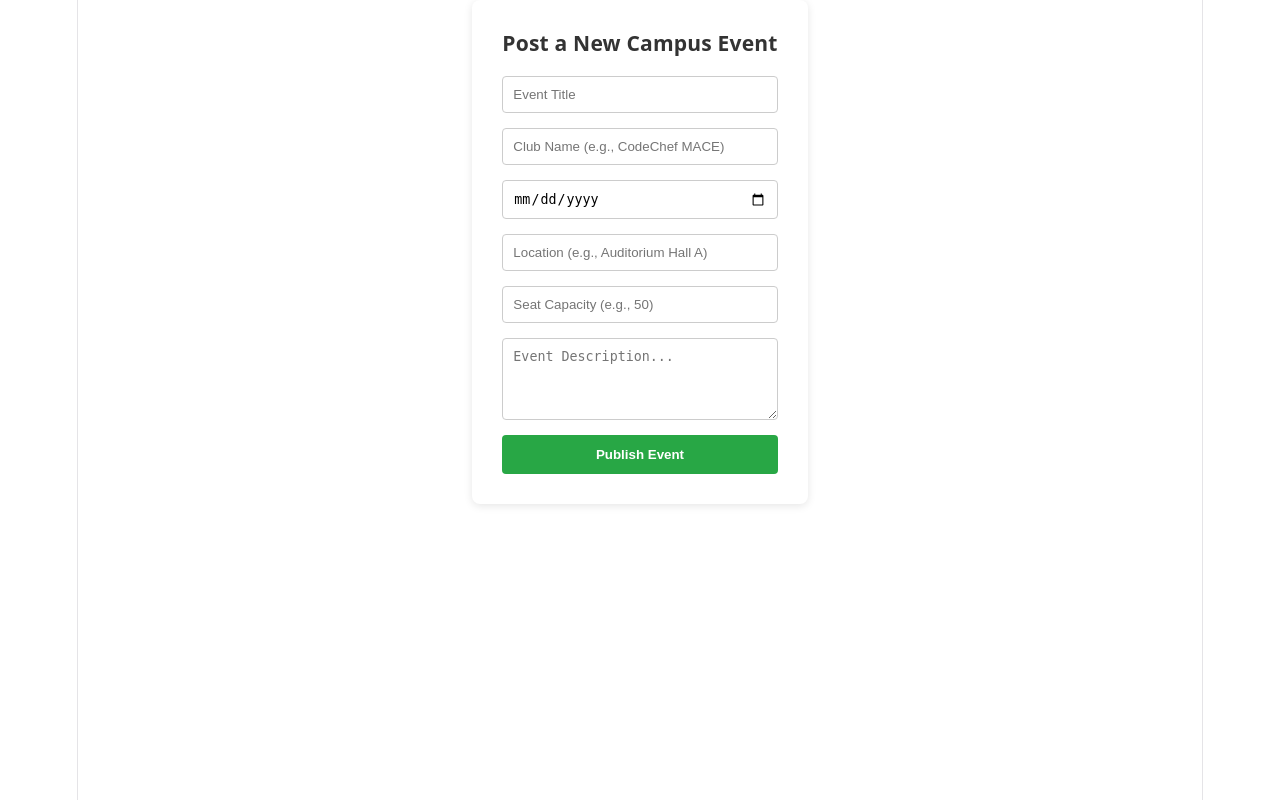
Test: CreateEvent component › displays API error message when the server returns an error response
Type "AI Workshop" into the field with placeholder "Event Title".
click(640, 95); type("AI Workshop")  # box [502,76,778,113]
Type "Tech Club" into the field with placeholder "Club Name (e.g., CodeChef MACE)".
click(640, 147); type("Tech Club")  # box [502,128,778,165]
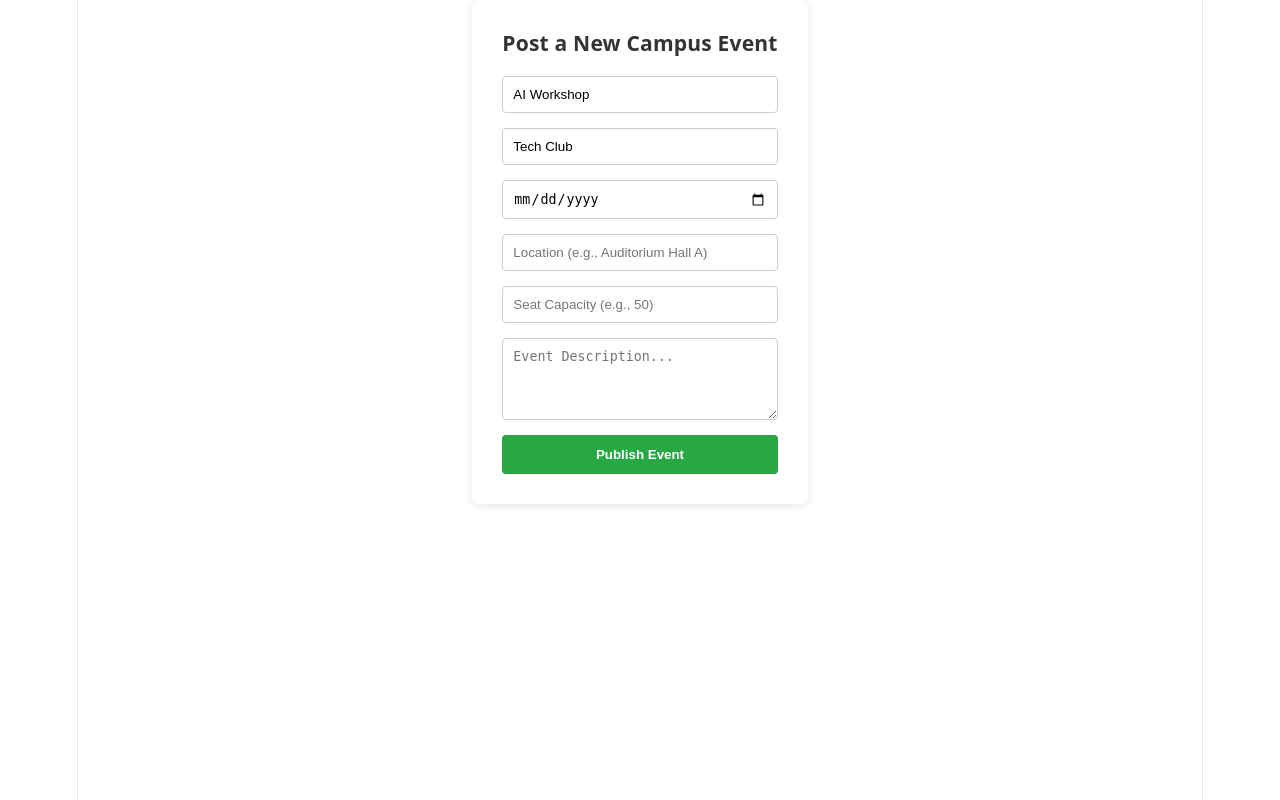
Type "2026-12-15" into the date field named "date".
click(640, 200); type("2026-12-15")  # box [502,180,778,219]
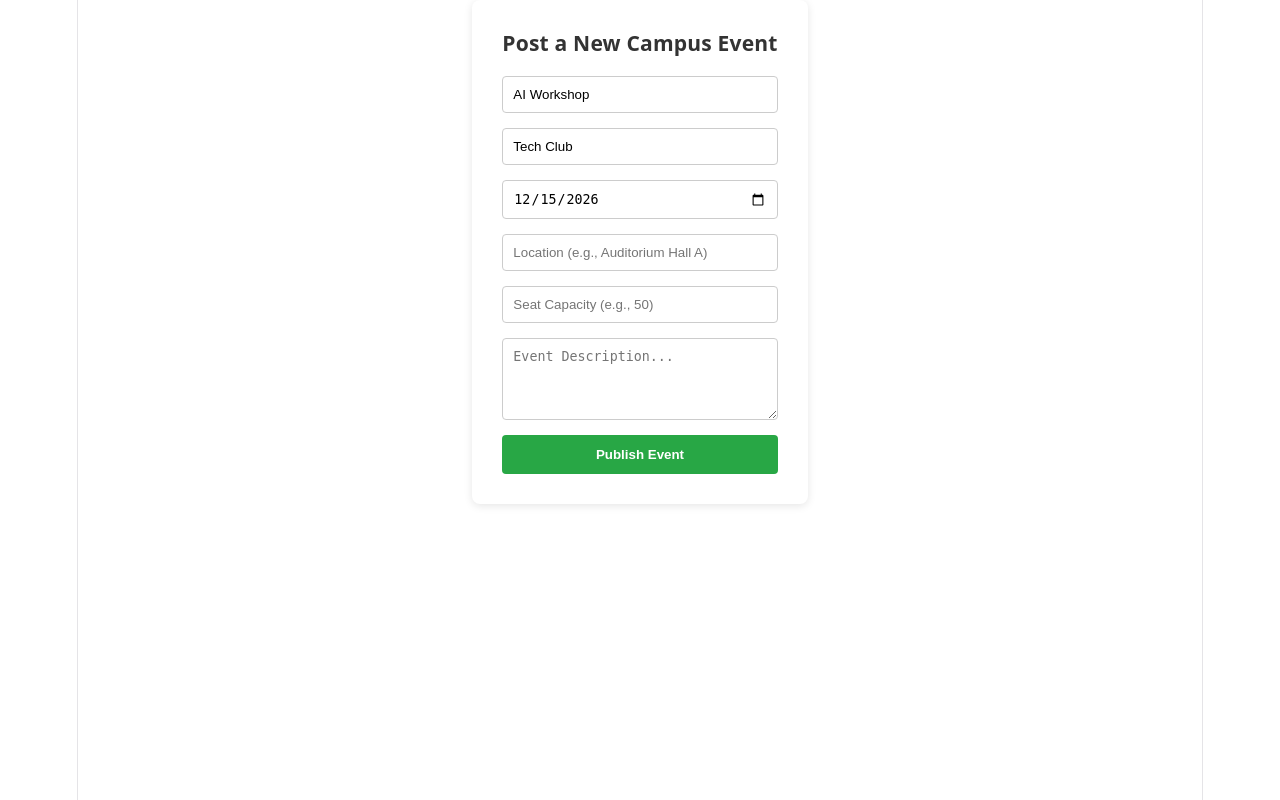
Type "Room 101" into the field with placeholder "Location (e.g., Auditorium Hall A)".
click(640, 253); type("Room 101")  # box [502,234,778,271]
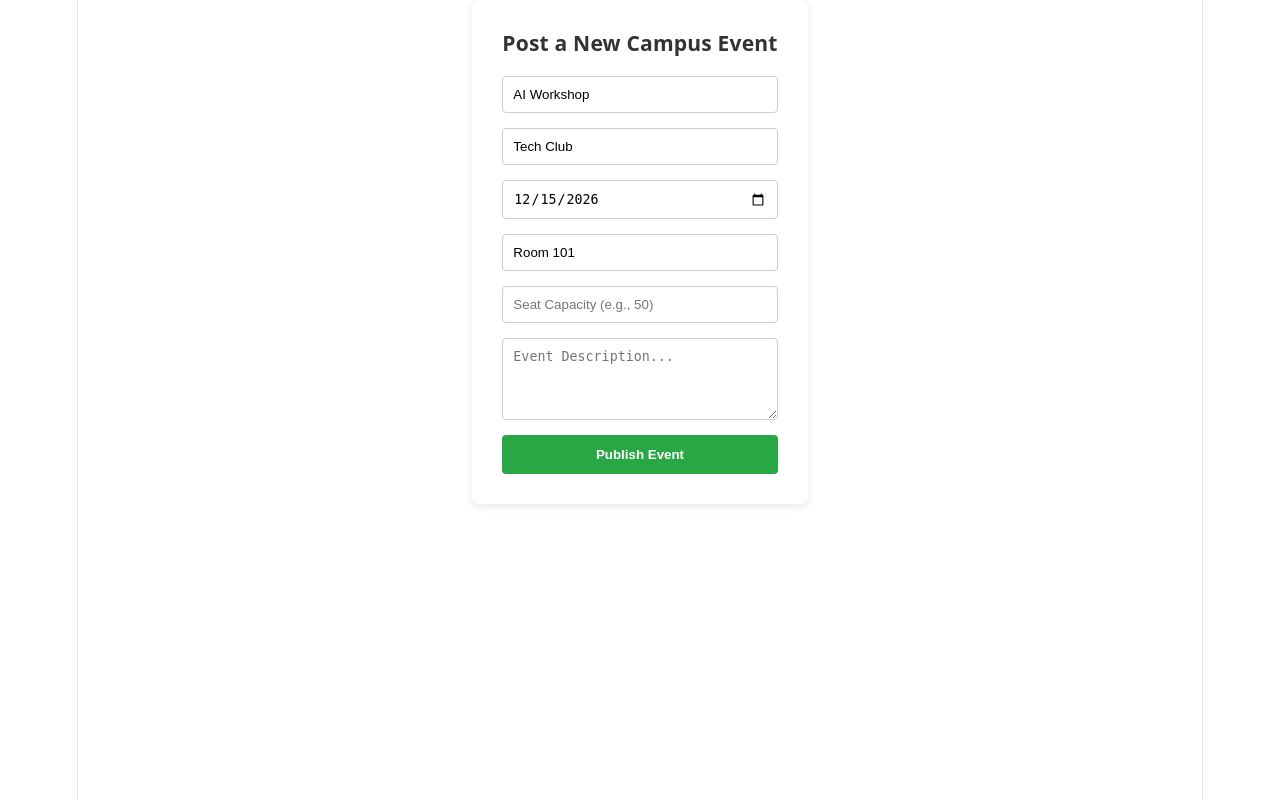
Type "50" into the number field with placeholder "Seat Capacity (e.g., 50)".
click(640, 305); type("50")  # box [502,286,778,323]
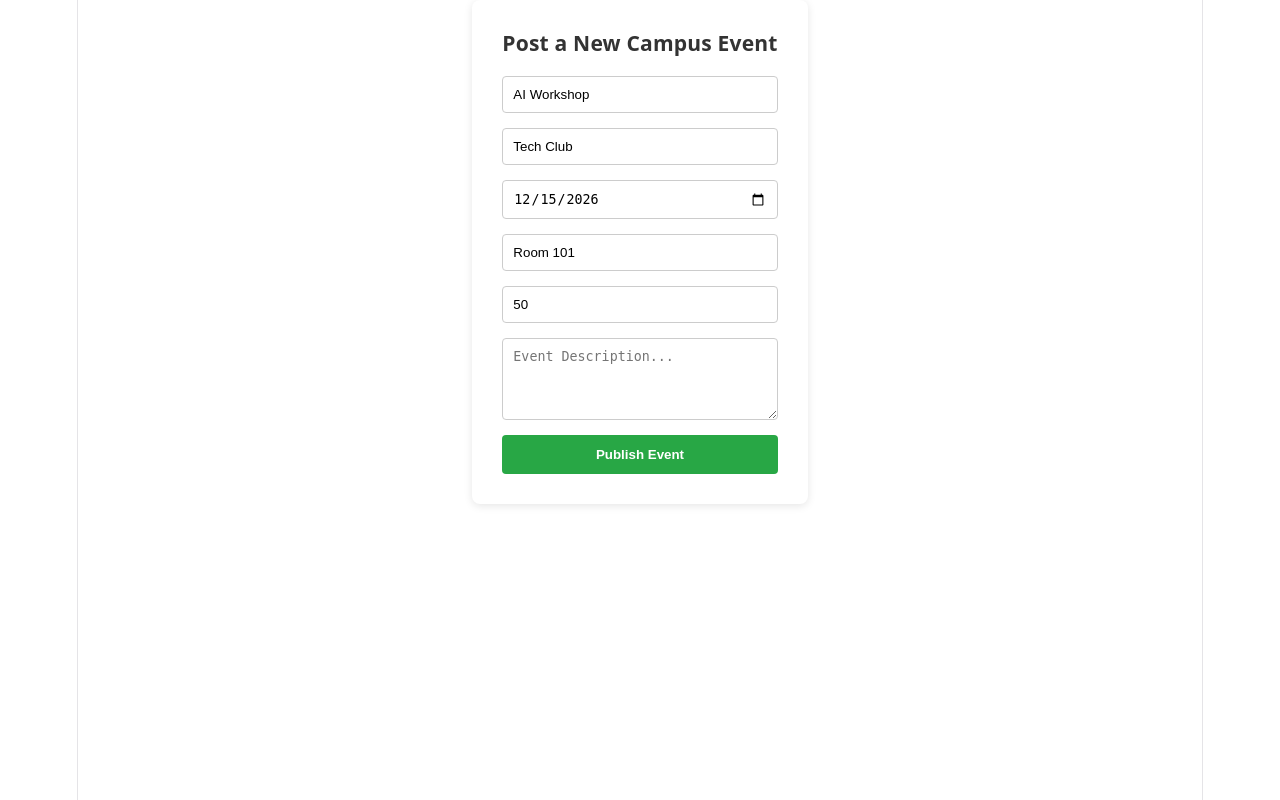
Type "Hands-on session on AI tools." into the text box with placeholder "Event Description...".
click(640, 379); type("Hands-on session on AI tools.")  # box [502,338,778,420]
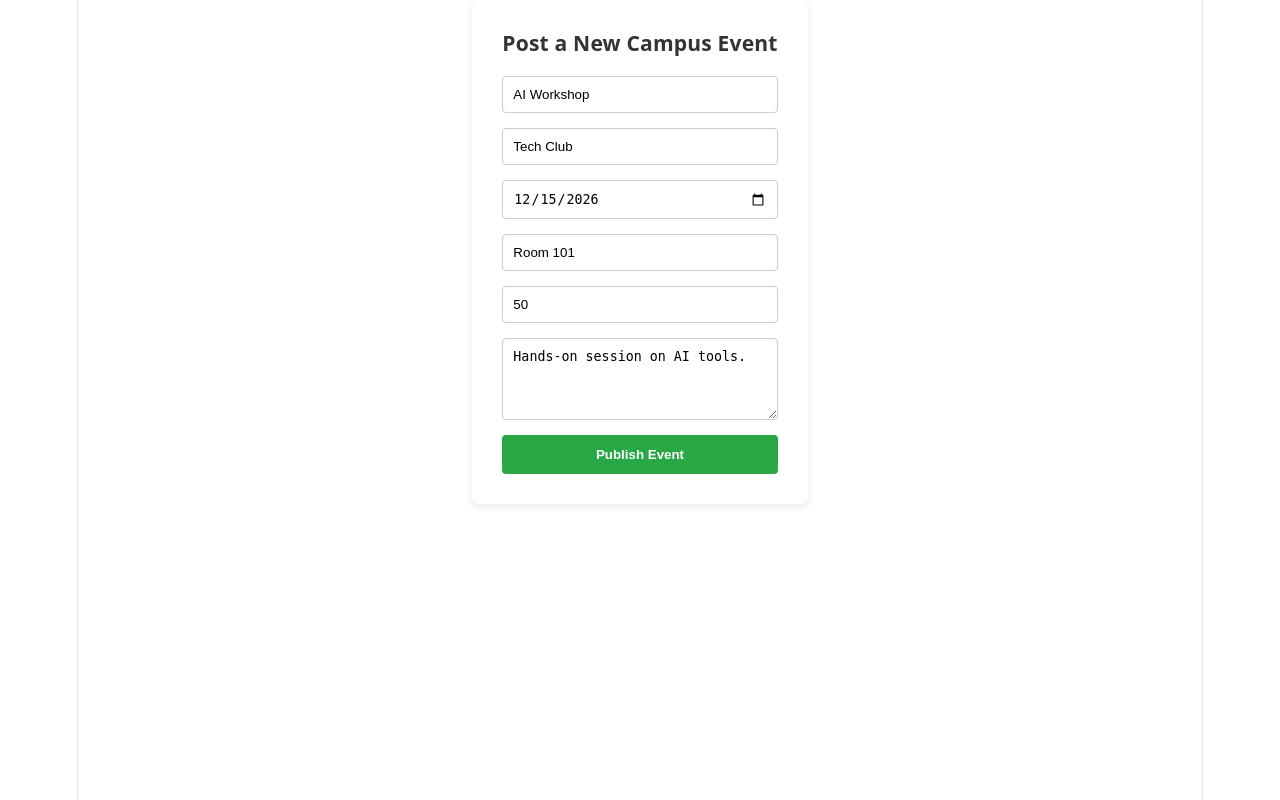
Click the button "Publish Event".
click(640, 455)  # box [502,435,778,474]
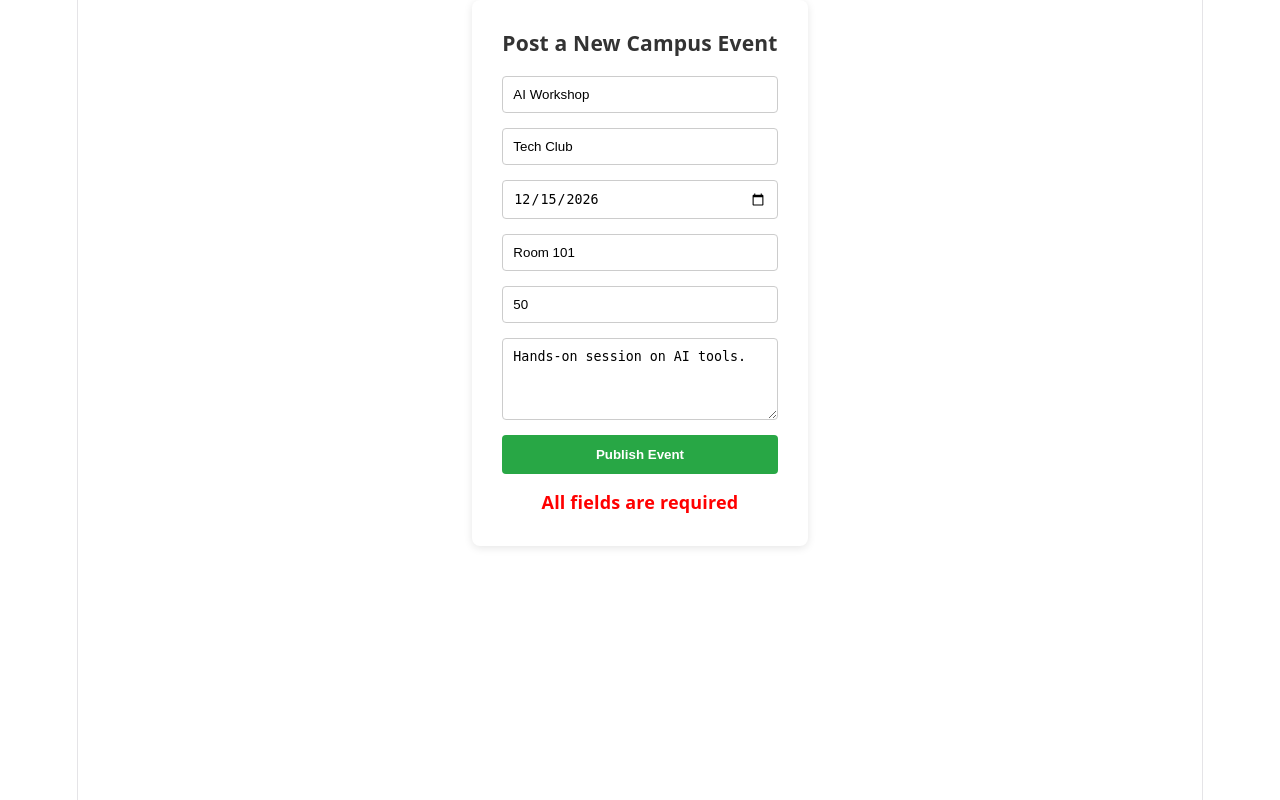
Expected: the text "All fields are required" is shown, [542,490,738,514]
